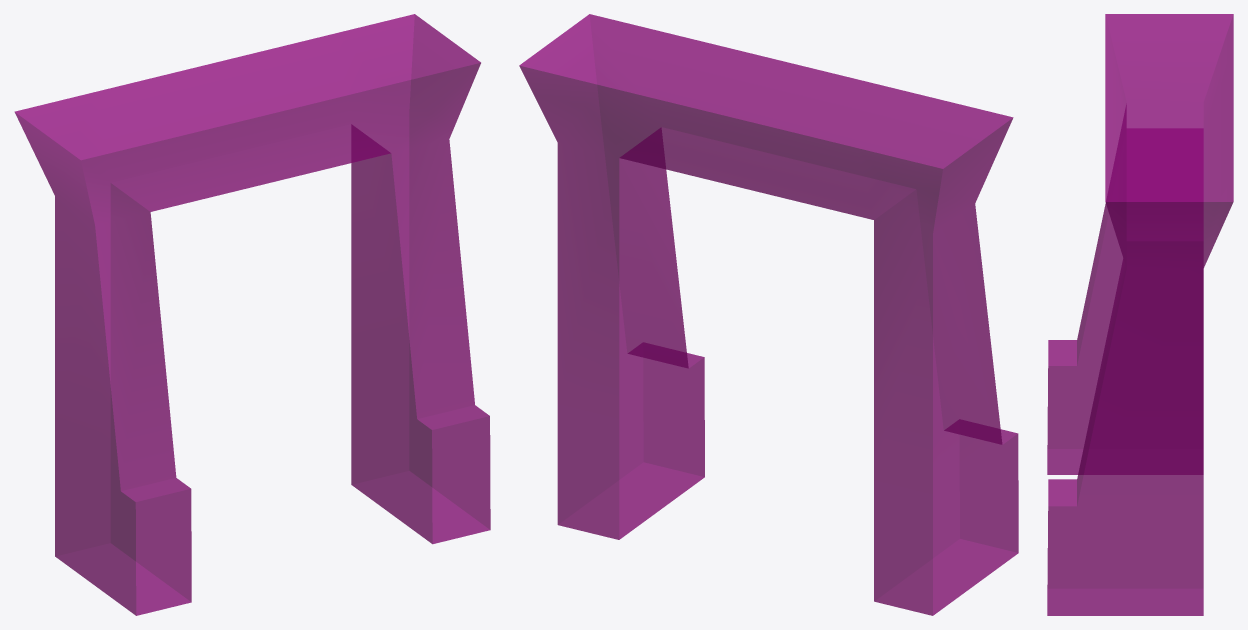
The model's file is SM_Bld_Wall_Temple_Top_Door_Double_02_Collision.fbx.
3 renders of one model, left to right at view 1: azimuth 30°, elevation 25°; view 2: azimuth 150°, elevation 25°; view 3: azimuth 270°, elevation 25°, orthographic. The views are drawn at different scales.
Visible parts, largest first — view 1: SM_Bld_Wall_Temple_Top_Door_Double_02_Collision; view 2: SM_Bld_Wall_Temple_Top_Door_Double_02_Collision; view 3: SM_Bld_Wall_Temple_Top_Door_Double_02_Collision.
Part boxes in pixels (bbox=[...]): SM_Bld_Wall_Temple_Top_Door_Double_02_Collision: bbox=[14, 14, 490, 615]; SM_Bld_Wall_Temple_Top_Door_Double_02_Collision: bbox=[519, 14, 1018, 615]; SM_Bld_Wall_Temple_Top_Door_Double_02_Collision: bbox=[1047, 14, 1233, 615].
Bounding box in the file's own units: 587 × 617 × 245.
